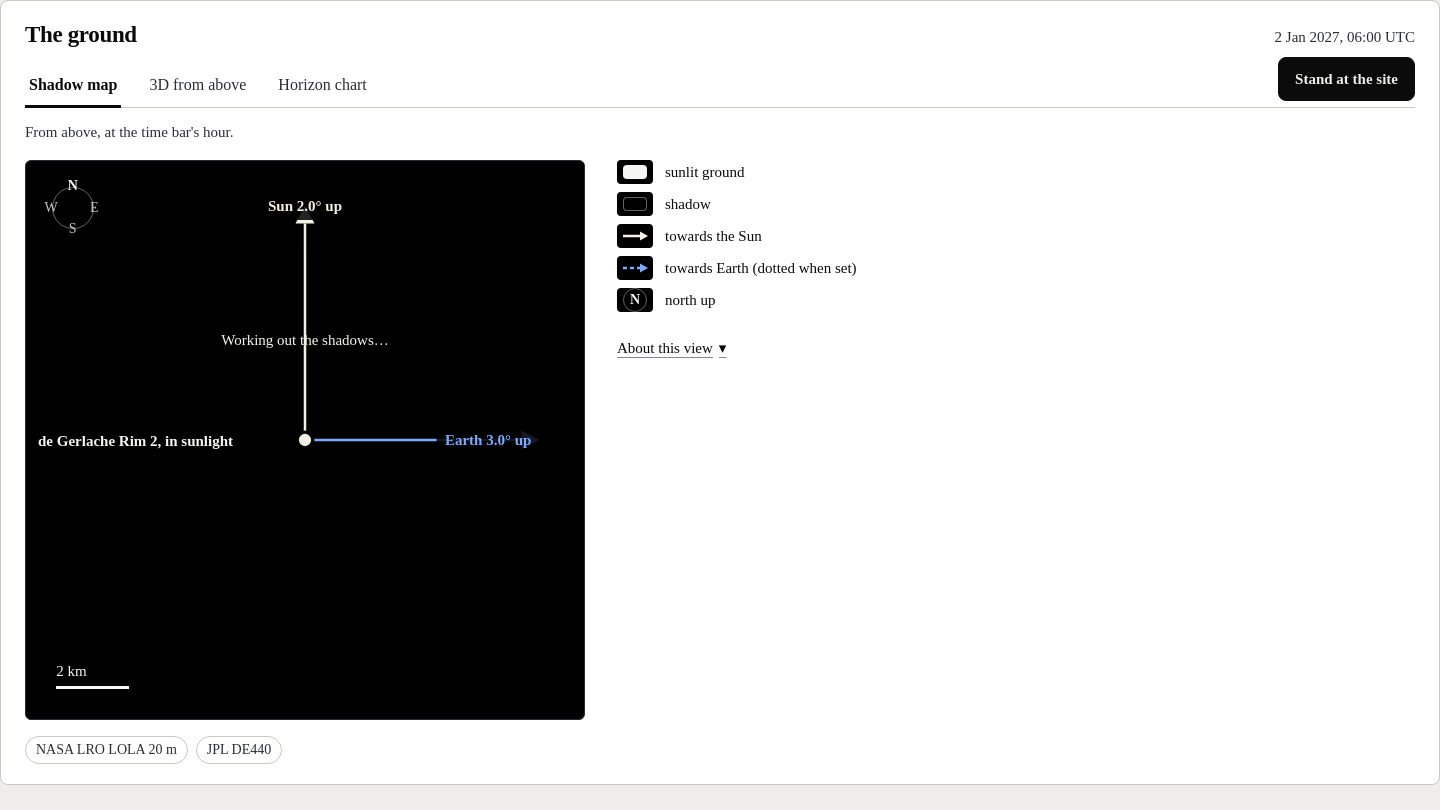
Scenario: GroundPanel › says in plain words what the 3D picture is made from
Click the tab "3D from above": (198, 86) top-left (146, 64), bottom-right (250, 108)
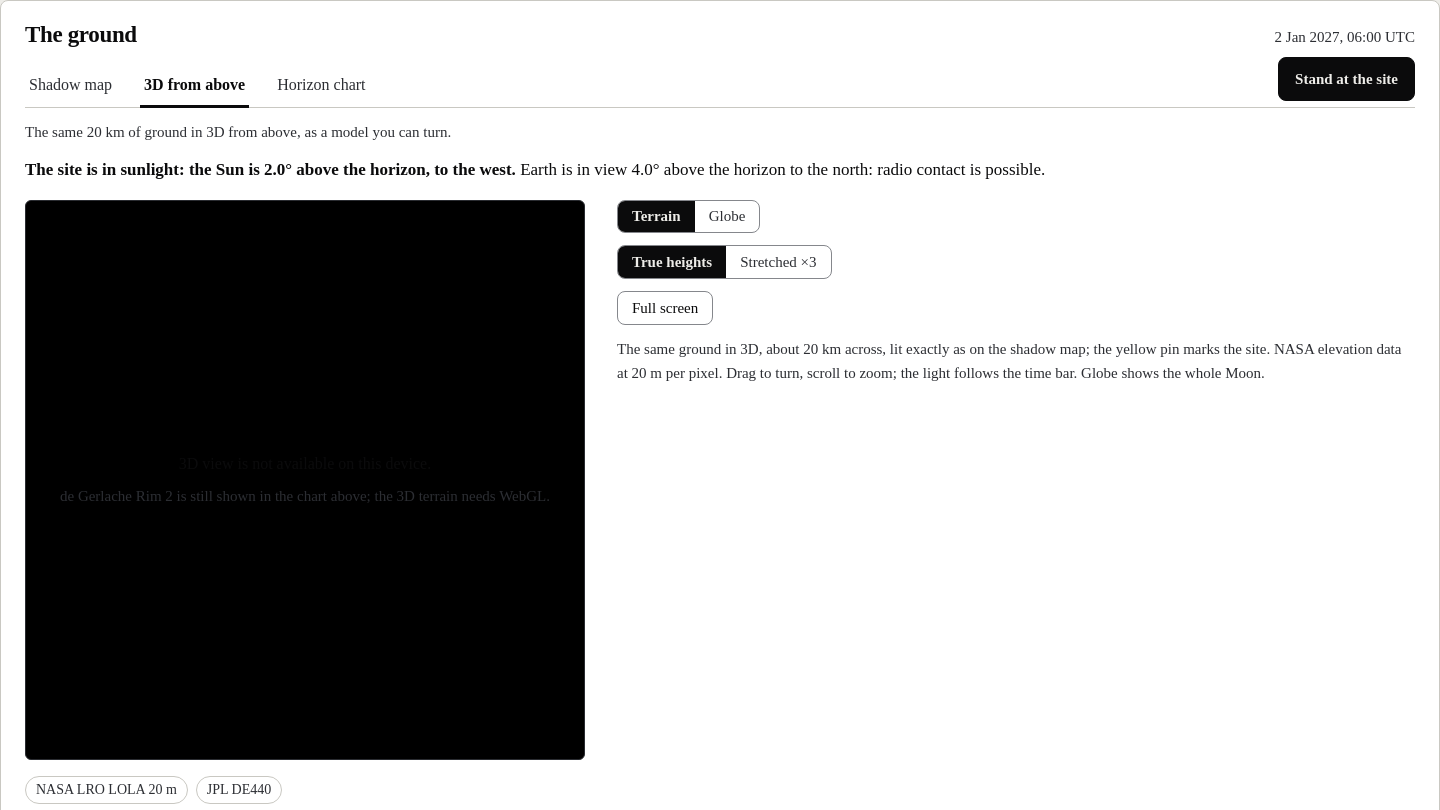
Now the panel named "3D from above" shows "The same ground in 3D, about 20 km across, lit exactly as on the shadow map; the yellow pin marks the site. NASA elevation data at 20 m per pixel. Drag to tur", box top-left (617, 341), bottom-right (1401, 381)
